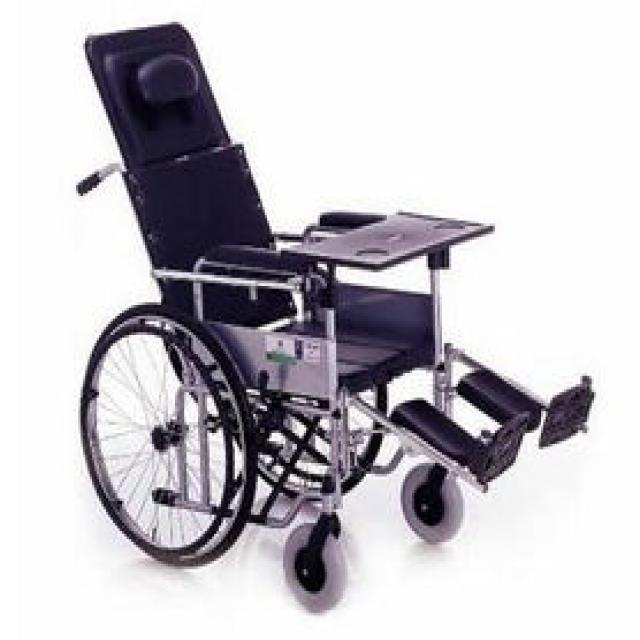wheelchair: (66, 11, 592, 616)
